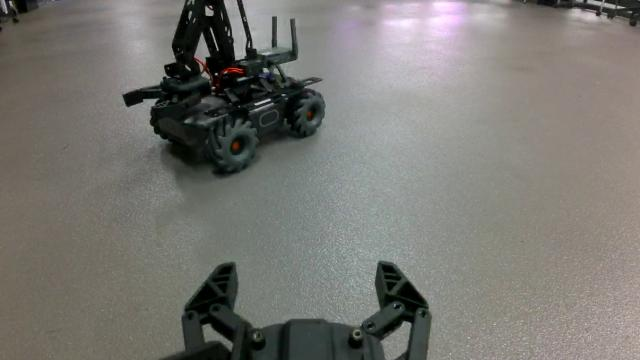robot: (121, 0, 327, 173)
